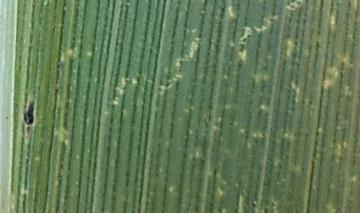tarspot: (22, 102, 35, 124), (25, 125, 33, 134), (4, 115, 10, 120)
